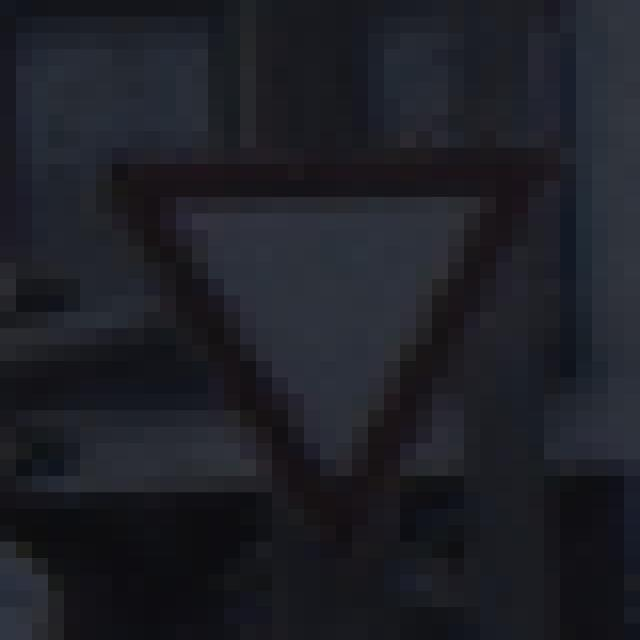Give Way: (81, 99, 561, 559)
